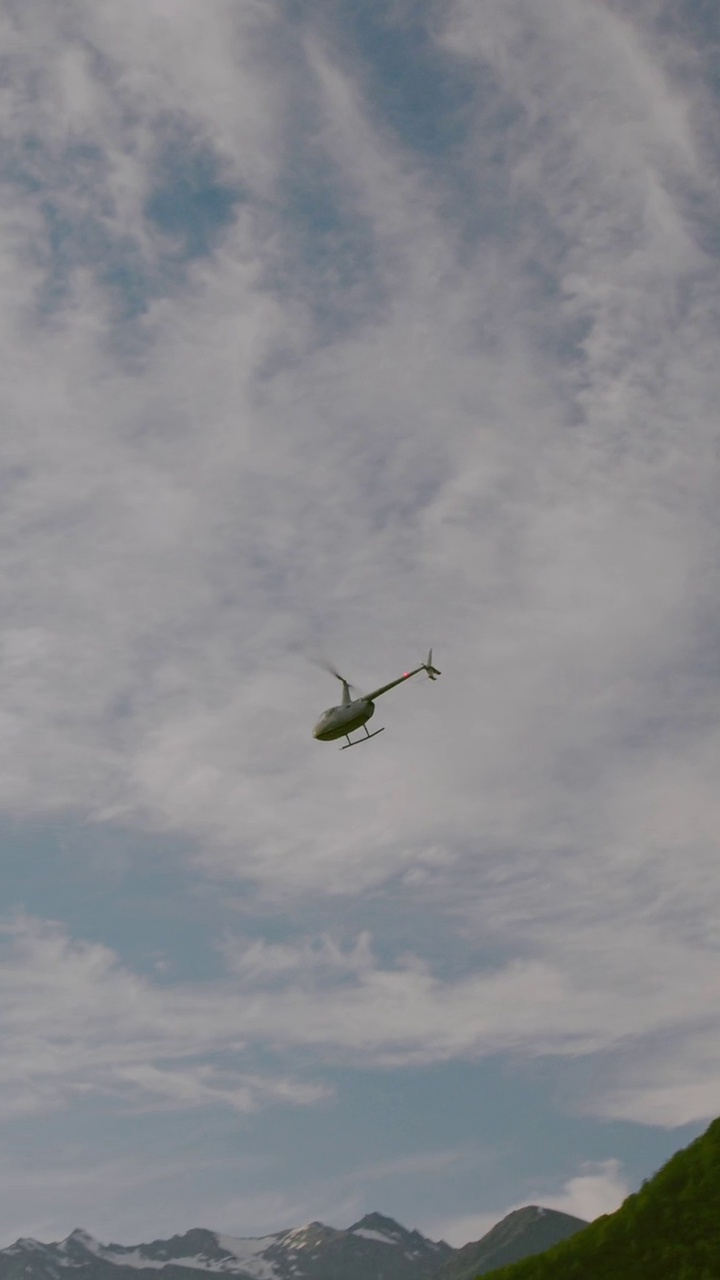heli: (306, 645, 444, 753)
